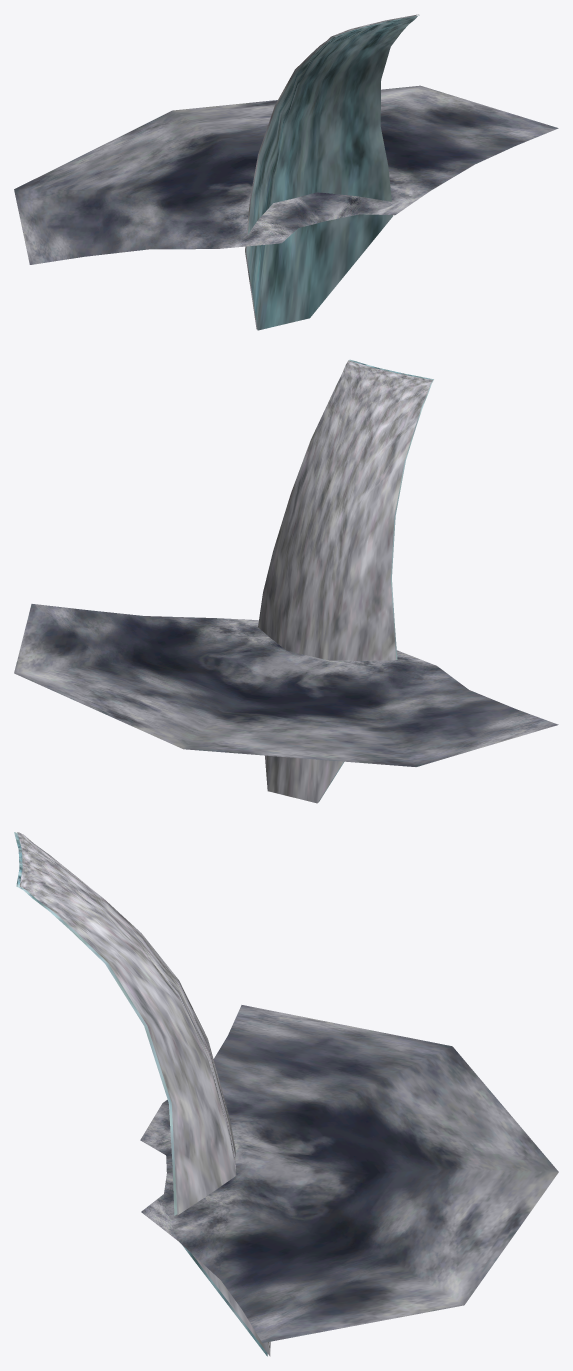
File: LONE_MOUNTAIN_WATERFALLS_WATERFALL_LAKE.fbx
The picture shows the model from 3 angles, top to bottom: view 1: azimuth 30°, elevation 25°; view 2: azimuth 150°, elevation 25°; view 3: azimuth 270°, elevation 25°; orthographic projection. The views are drawn at different scales.
Visible parts, largest first — view 1: LONE_MOUNTAIN_WATERFALLS_WATERFALL_LAKE; view 2: LONE_MOUNTAIN_WATERFALLS_WATERFALL_LAKE; view 3: LONE_MOUNTAIN_WATERFALLS_WATERFALL_LAKE.
Part boxes in pixels (bbox=[...]): LONE_MOUNTAIN_WATERFALLS_WATERFALL_LAKE: bbox=[14, 14, 558, 330]; LONE_MOUNTAIN_WATERFALLS_WATERFALL_LAKE: bbox=[14, 359, 558, 803]; LONE_MOUNTAIN_WATERFALLS_WATERFALL_LAKE: bbox=[14, 832, 558, 1356].
Size of the model in its own units: 120221 by 79346 by 81822.
3 materials, 3 textured.
